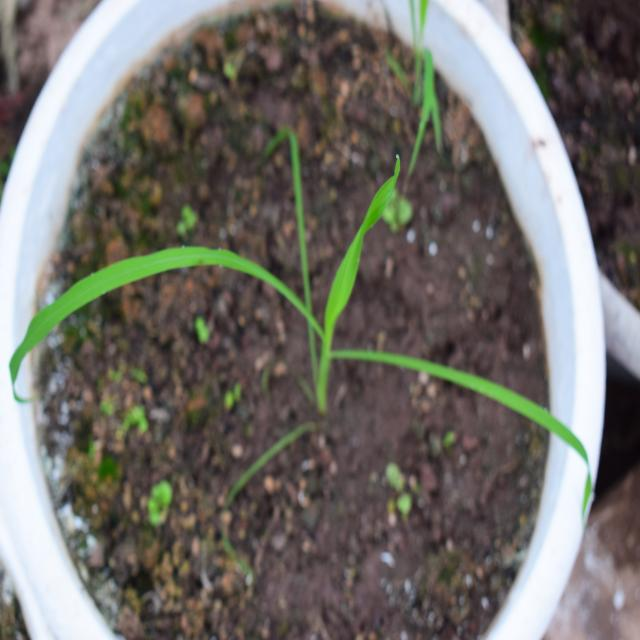barnyard_grass: (2, 134, 616, 498)
